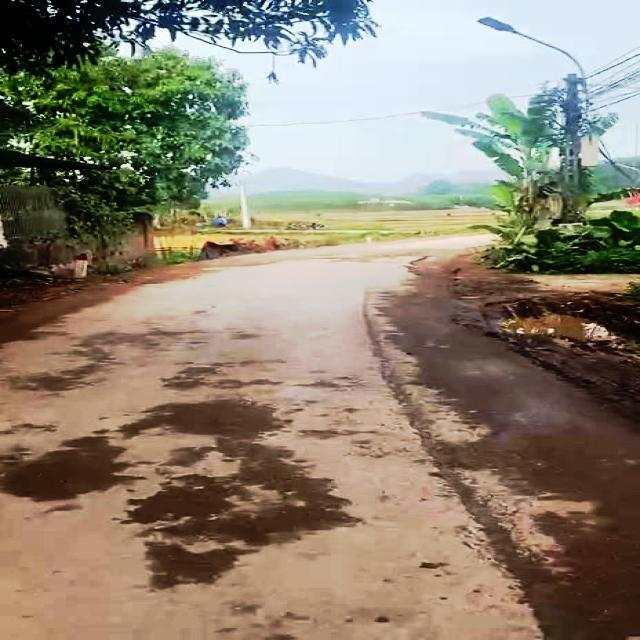pothole: (482, 309, 620, 343)
